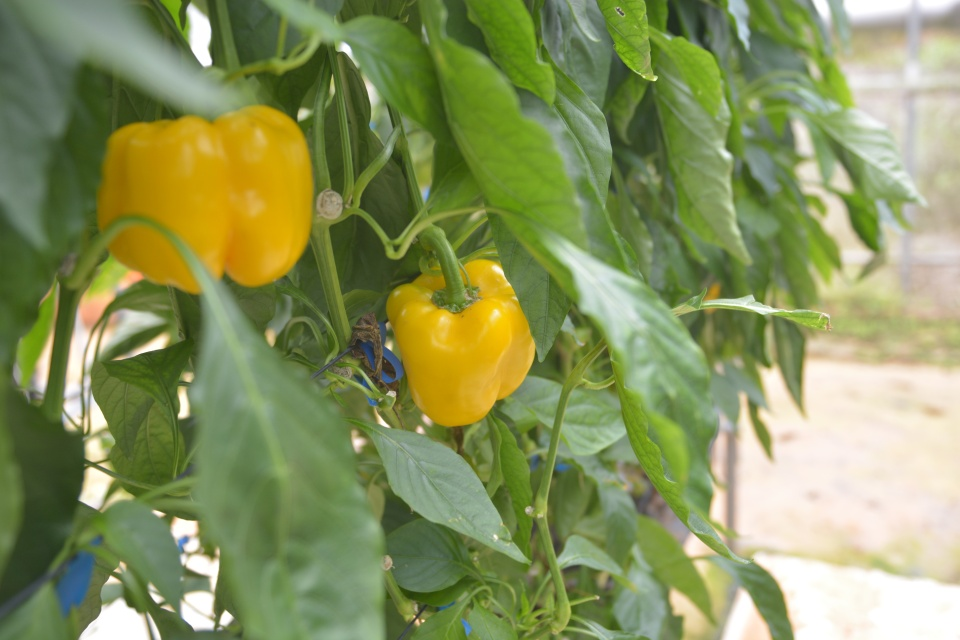fruit: (93, 101, 318, 298), (383, 256, 538, 429)
pedicle: (429, 282, 485, 313)
